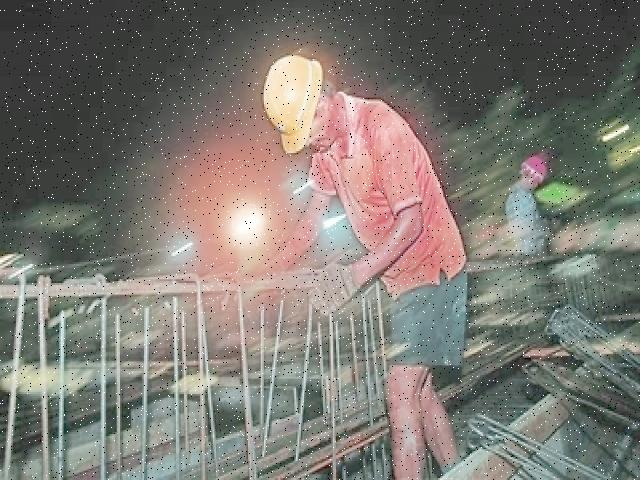Helmet: (261, 46, 327, 154)
